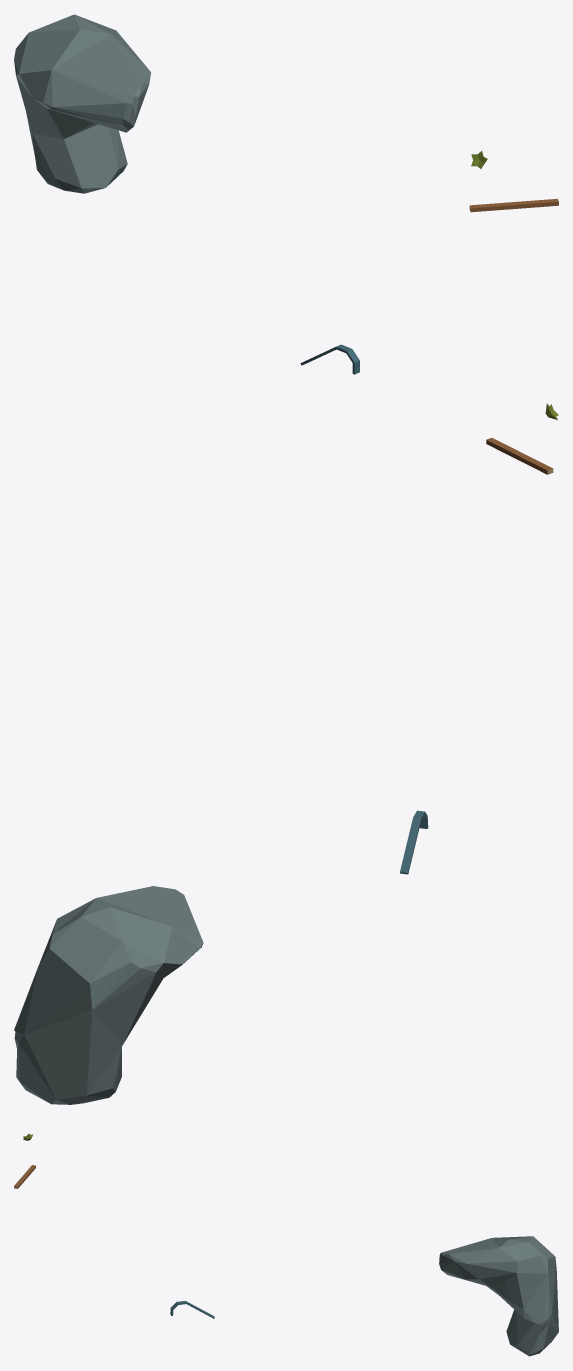
The picture shows the model from 3 angles, top to bottom: view 1: azimuth 30°, elevation 25°; view 2: azimuth 150°, elevation 25°; view 3: azimuth 270°, elevation 25°; orthographic projection. The views are drawn at different scales.
Parts seen in each view (by area): view 1: Box281_rock_0, Box15838_brown_0; view 2: Box281_rock_0; view 3: Box281_rock_0.
Part boxes in pixels (x1,y1,x2,y2): Box281_rock_0: (14,14,151,193); Box15838_brown_0: (469,198,558,212); Box281_rock_0: (14,886,203,1104); Box281_rock_0: (439,1236,558,1356).
Bounding box in the file's own units: 901 × 2364 × 5685.
